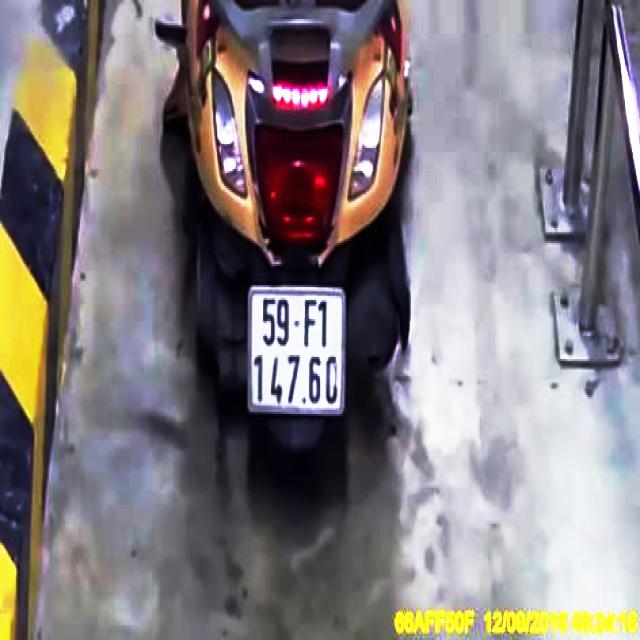license_plate: (250, 290, 345, 416)
